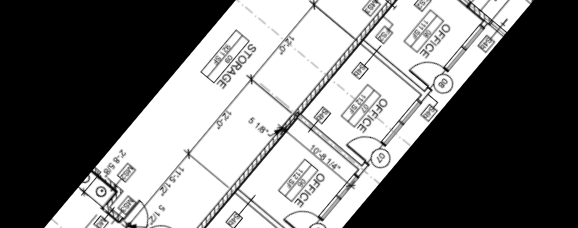door: (168, 0, 429, 228), (118, 198, 181, 228), (343, 123, 386, 166), (280, 197, 323, 228)
double door: (404, 48, 448, 92), (463, 0, 497, 30)
wall: (100, 185, 128, 216)
